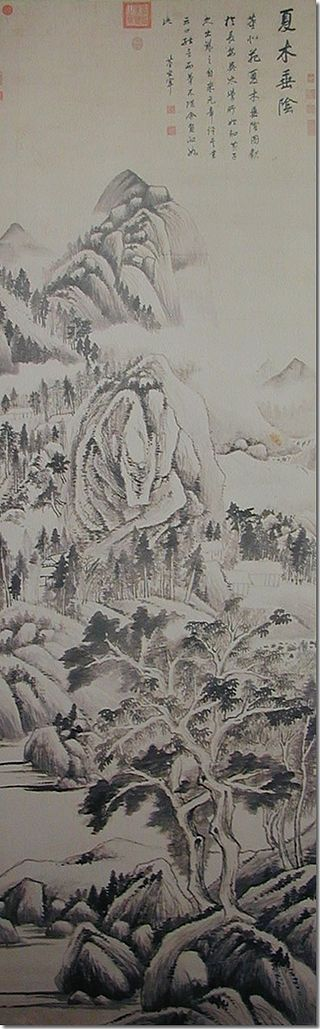mountain: (89, 906, 320, 1022), (90, 377, 212, 534), (105, 182, 190, 324), (203, 368, 318, 458), (1, 607, 72, 739), (8, 851, 116, 919), (13, 226, 99, 297), (253, 873, 320, 907)
tree: (85, 622, 260, 691), (7, 543, 210, 600), (105, 709, 302, 758), (115, 771, 299, 810), (178, 807, 245, 912), (4, 425, 69, 520), (238, 532, 306, 575), (17, 383, 79, 420), (268, 815, 305, 868), (273, 656, 318, 698), (41, 302, 82, 347), (87, 787, 116, 822), (11, 331, 40, 365), (229, 505, 270, 529), (3, 272, 29, 298), (83, 343, 100, 373), (132, 294, 149, 319), (49, 278, 77, 289), (126, 222, 149, 234), (78, 261, 91, 269)
